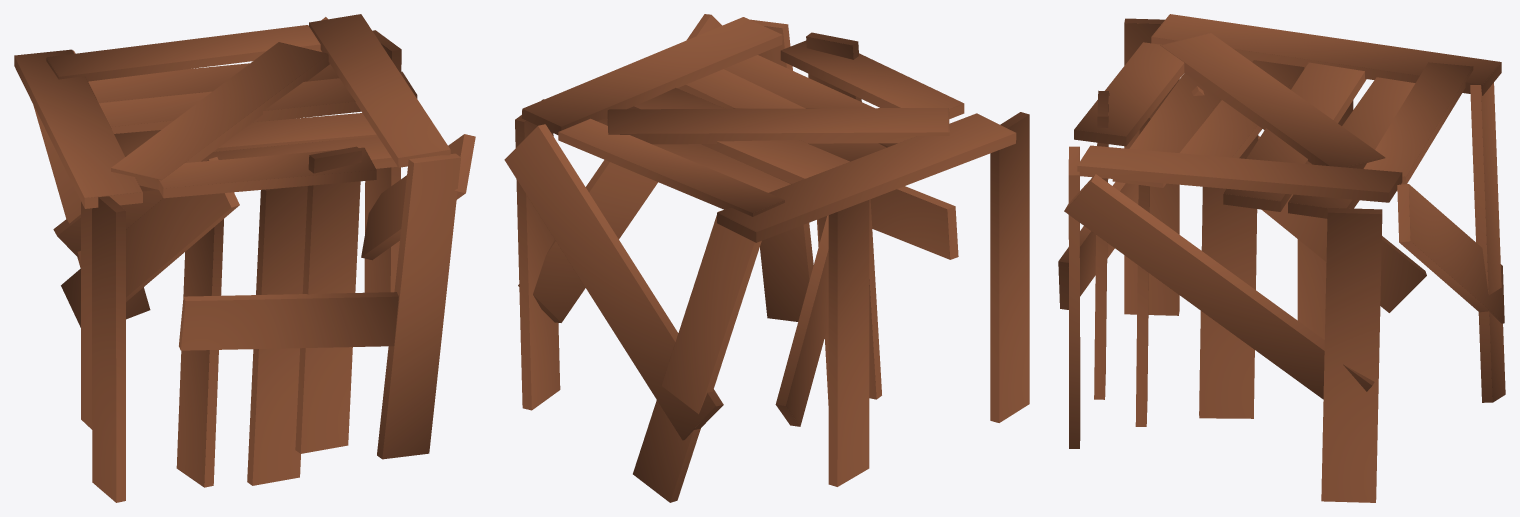
The model's file is simple-box-distroyed.glb.
3 renders of one model, left to right at view 1: azimuth 30°, elevation 25°; view 2: azimuth 150°, elevation 25°; view 3: azimuth 270°, elevation 25°, orthographic.
Parts seen in each view (by area): view 1: box_wood.030, box_wood.022, box_wood.023, box_wood.028, box_wood.026, box_wood.027, box_wood.035, box_wood.021, box_wood.029, box_wood.036, box_wood.031, box_wood.020 (+9 smaller); view 2: box_wood.037, box_wood.024, box_wood.035, box_wood.025, box_wood.026, box_wood.027, box_wood.021, box_wood.036, box_wood.019, box_wood.032, box_wood.020, box_wood.031 (+8 smaller); view 3: box_wood.019, box_wood.032, box_wood.021, box_wood.026, box_wood.035, box_wood.029, box_wood.024, box_wood.037, box_wood.036, box_wood.020, box_wood.034, box_wood.027 (+9 smaller).
Boxes of the visible parts, x1,y1,x2,y2 form: box_wood.030: (377, 153, 461, 459); box_wood.022: (295, 146, 361, 453); box_wood.023: (179, 292, 398, 350); box_wood.028: (247, 186, 307, 485); box_wood.026: (111, 42, 329, 189); box_wood.027: (92, 196, 125, 502); box_wood.035: (14, 49, 142, 208); box_wood.021: (309, 14, 450, 167); box_wood.029: (176, 219, 223, 487); box_wood.036: (46, 25, 320, 81); box_wood.031: (61, 157, 239, 327); box_wood.020: (158, 147, 376, 198); box_wood.037: (504, 124, 723, 440); box_wood.024: (633, 210, 761, 502); box_wood.035: (717, 113, 1016, 242); box_wood.025: (828, 200, 869, 486); box_wood.026: (607, 108, 949, 144); box_wood.027: (990, 112, 1029, 422); box_wood.021: (521, 17, 782, 134); box_wood.036: (558, 118, 784, 216); box_wood.019: (515, 99, 560, 410); box_wood.032: (518, 14, 721, 322); box_wood.020: (780, 40, 964, 118); box_wood.031: (775, 215, 828, 426); box_wood.019: (1321, 208, 1382, 502); box_wood.032: (1064, 174, 1374, 399); box_wood.021: (1077, 145, 1402, 202); box_wood.026: (1160, 32, 1385, 168); box_wood.035: (1151, 14, 1501, 95); box_wood.029: (1199, 134, 1258, 418); box_wood.024: (1470, 83, 1505, 402); box_wood.037: (1397, 184, 1504, 323); box_wood.036: (1363, 62, 1473, 184); box_wood.020: (1074, 42, 1184, 146); box_wood.034: (1223, 62, 1366, 211); box_wood.027: (1124, 18, 1179, 315).
Bounding box in the file's own units: 0.5151 × 0.4349 × 0.4997.
1 material, 1 textured.
